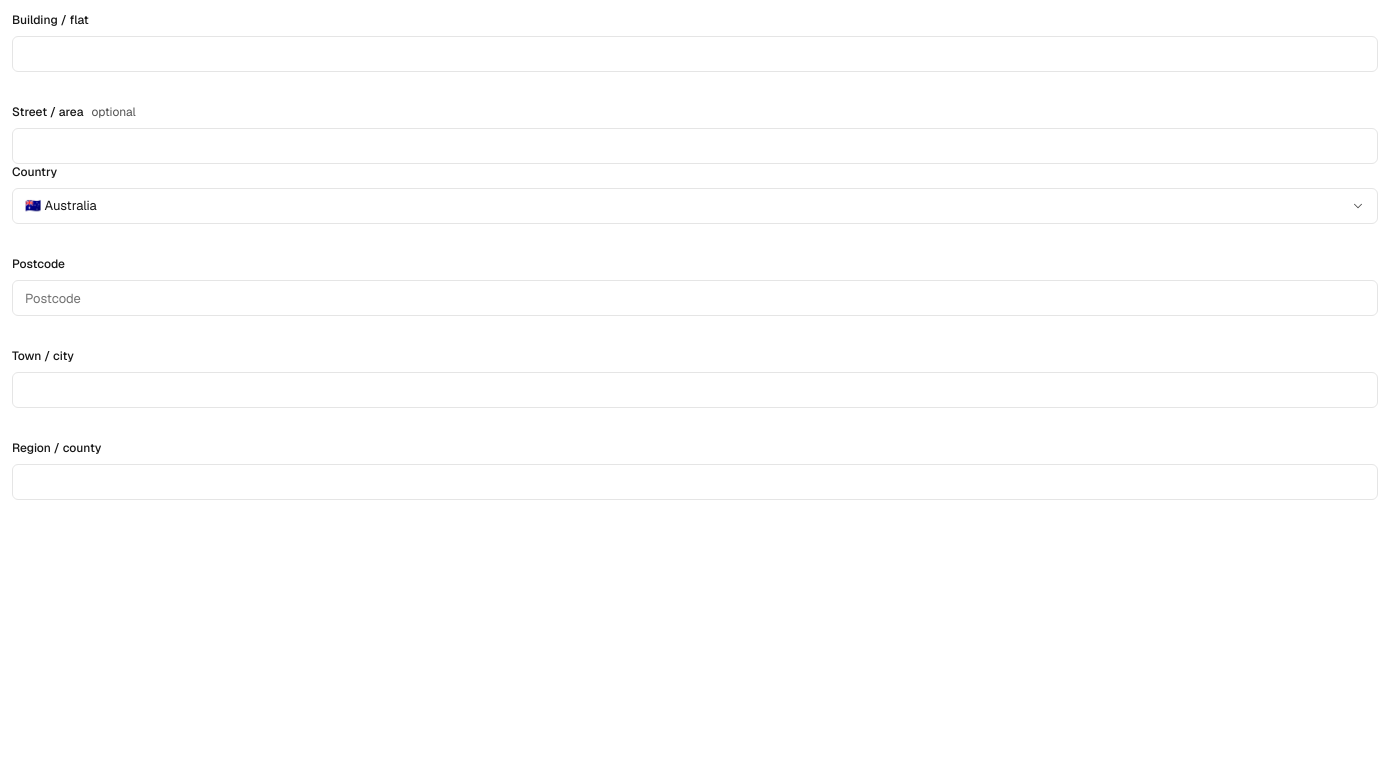
Test: AddressFields, a postcode with no single town › offers the rest in the field itself
The width and height of the screenshot is (1390, 780).
In the field labelled "Postcode": (695, 298) [12,280,1378,316], type "2155"
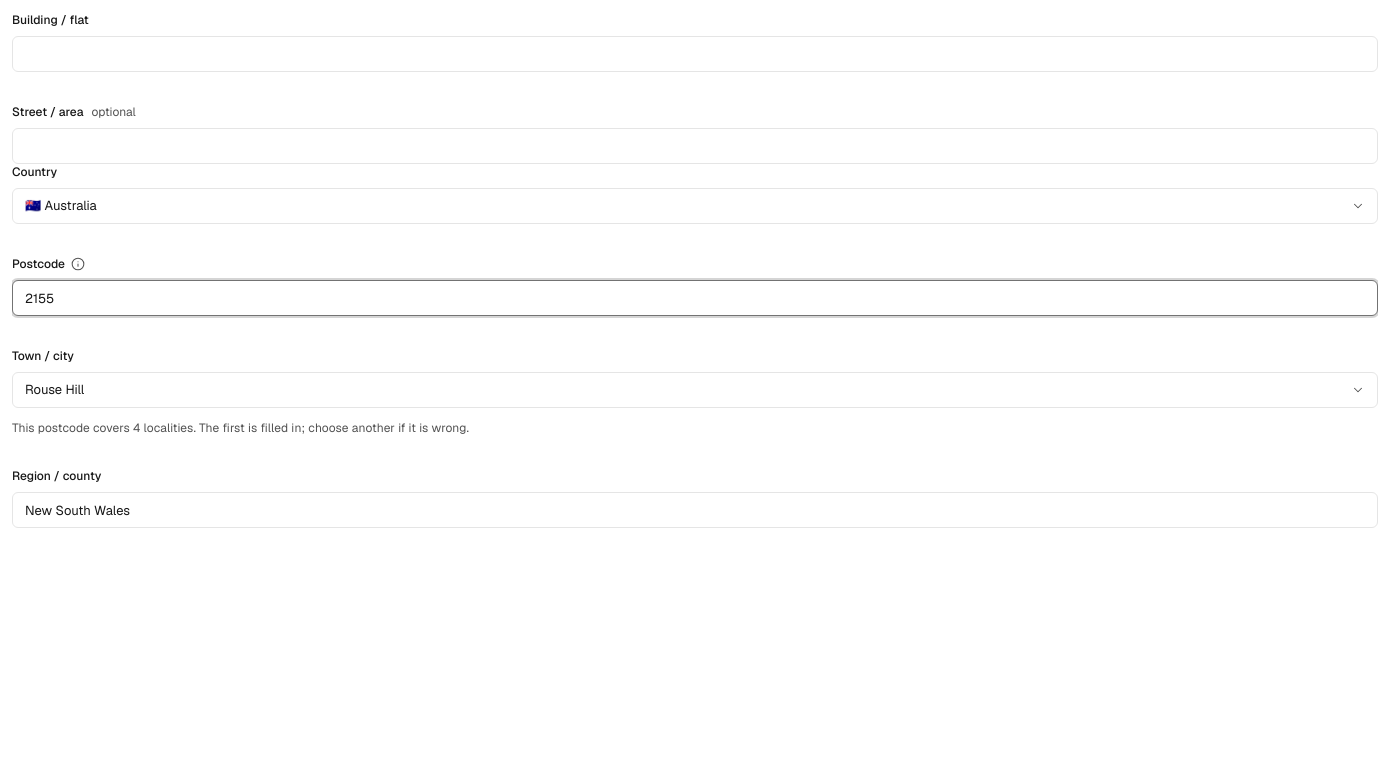
Click the dropdown labelled "Town / city": (682, 390) [13,380,1351,400]
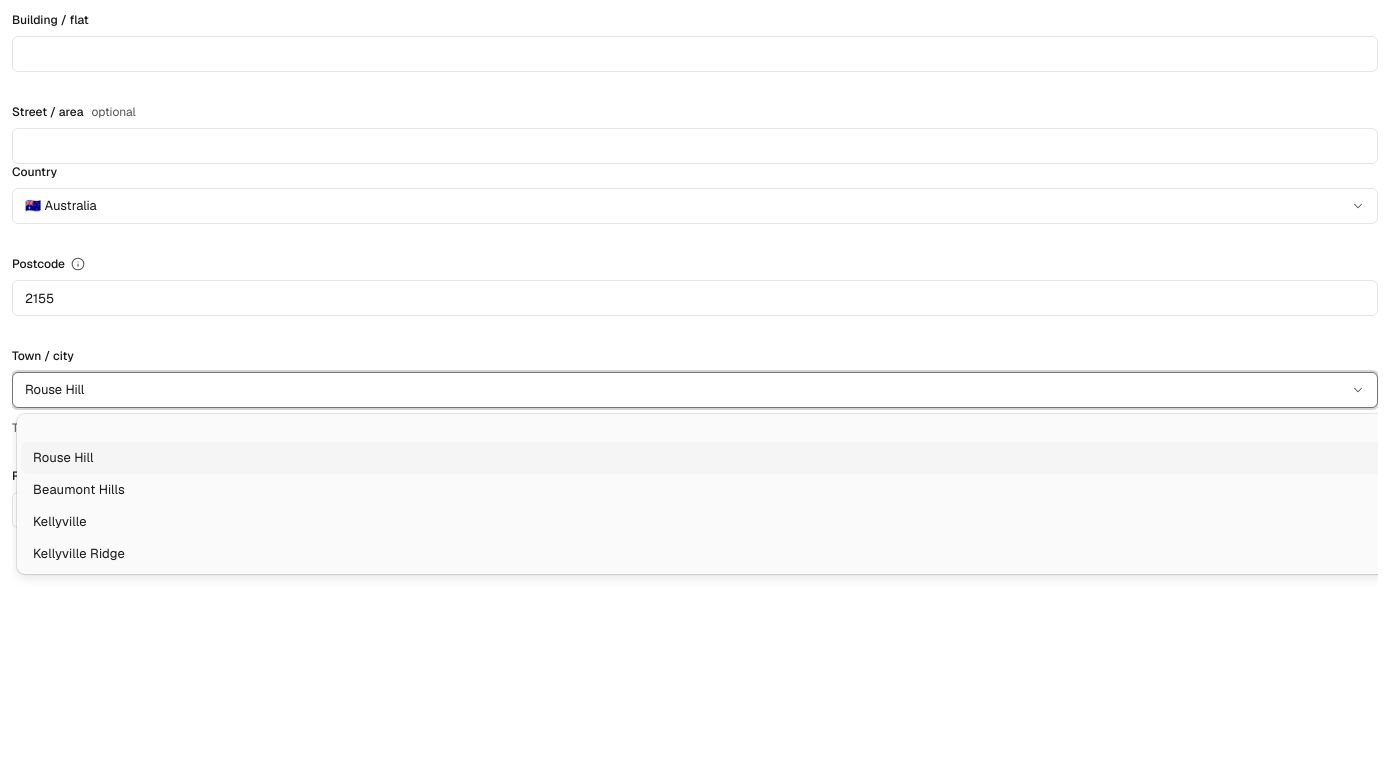
Click the option "Kellyville": (60, 522) [33,513,87,530]
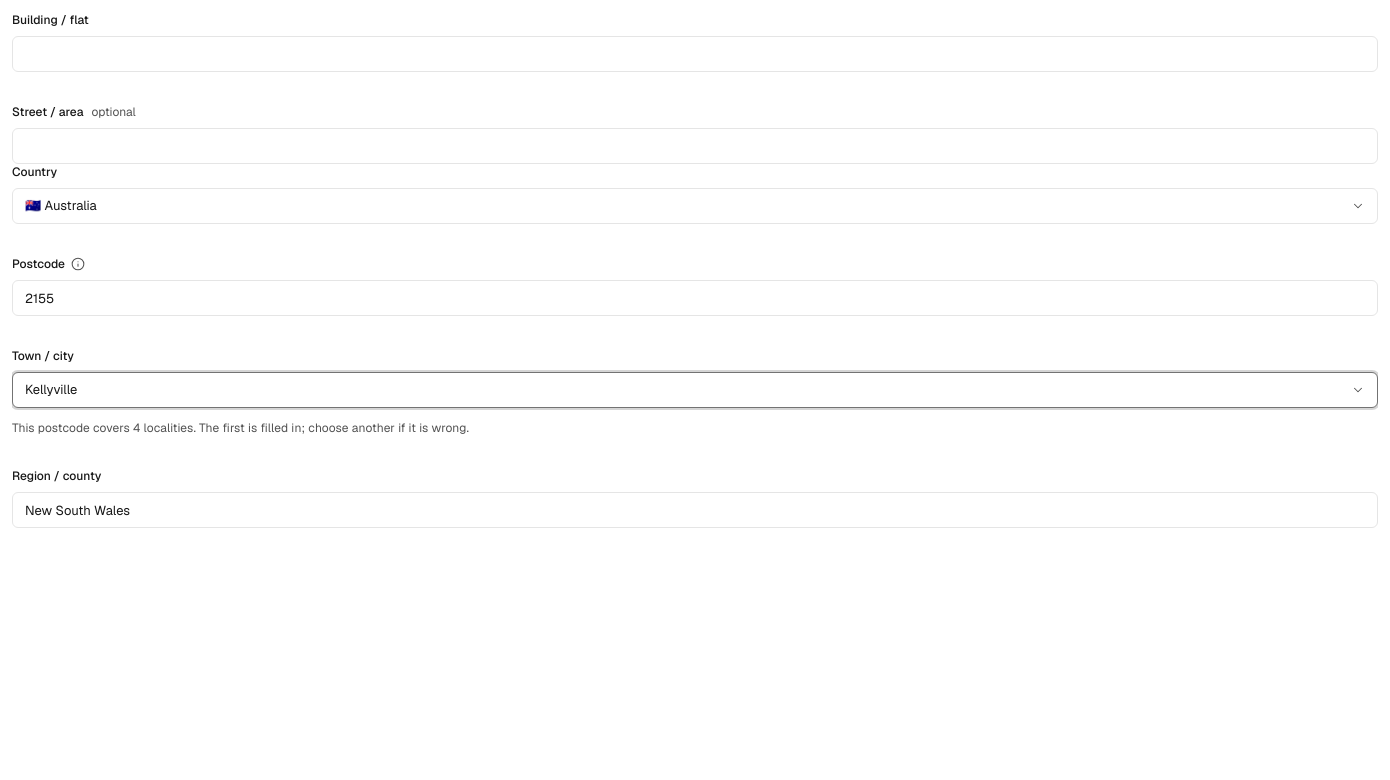
Check: the text "covers 4 localities" is shown 2 times
Check: the dropdown labelled "Town / city" holds "Kellyville", box [13,380,1351,400]
